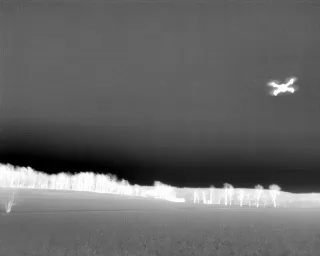DRONE: (263, 72, 302, 101)
